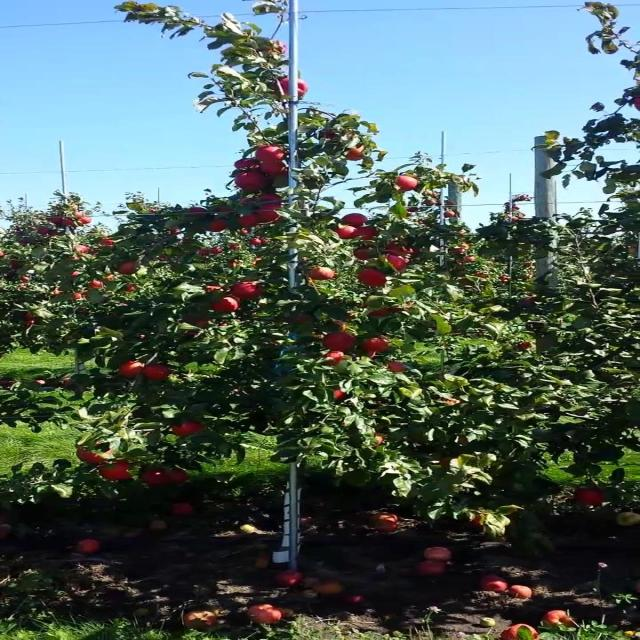apple: (76, 442, 112, 464), (97, 460, 131, 479), (234, 171, 268, 189), (322, 332, 354, 351), (230, 281, 263, 299), (574, 487, 604, 505), (356, 268, 386, 286), (367, 305, 412, 317), (278, 77, 306, 96), (253, 144, 286, 160), (170, 420, 202, 436), (211, 296, 239, 312), (360, 336, 388, 352), (256, 40, 287, 54), (332, 224, 359, 240), (255, 206, 281, 222), (394, 174, 418, 191), (306, 266, 335, 280), (142, 364, 169, 379), (384, 241, 412, 255), (180, 316, 208, 330), (141, 469, 167, 484), (118, 360, 142, 376), (258, 160, 285, 174), (384, 253, 405, 270), (342, 212, 366, 225), (237, 213, 259, 227), (166, 468, 188, 482), (615, 511, 637, 525), (343, 146, 364, 160), (356, 226, 377, 240), (322, 350, 343, 364), (258, 202, 282, 214), (117, 260, 137, 274), (207, 218, 226, 232), (334, 226, 356, 238), (352, 247, 372, 260), (181, 317, 207, 327), (233, 158, 257, 168), (386, 360, 404, 372), (329, 320, 347, 332), (289, 314, 310, 324), (469, 512, 483, 526), (440, 398, 464, 406), (438, 456, 453, 468), (259, 193, 281, 201), (372, 433, 384, 446), (332, 388, 345, 399), (321, 130, 335, 138), (188, 207, 206, 213)
